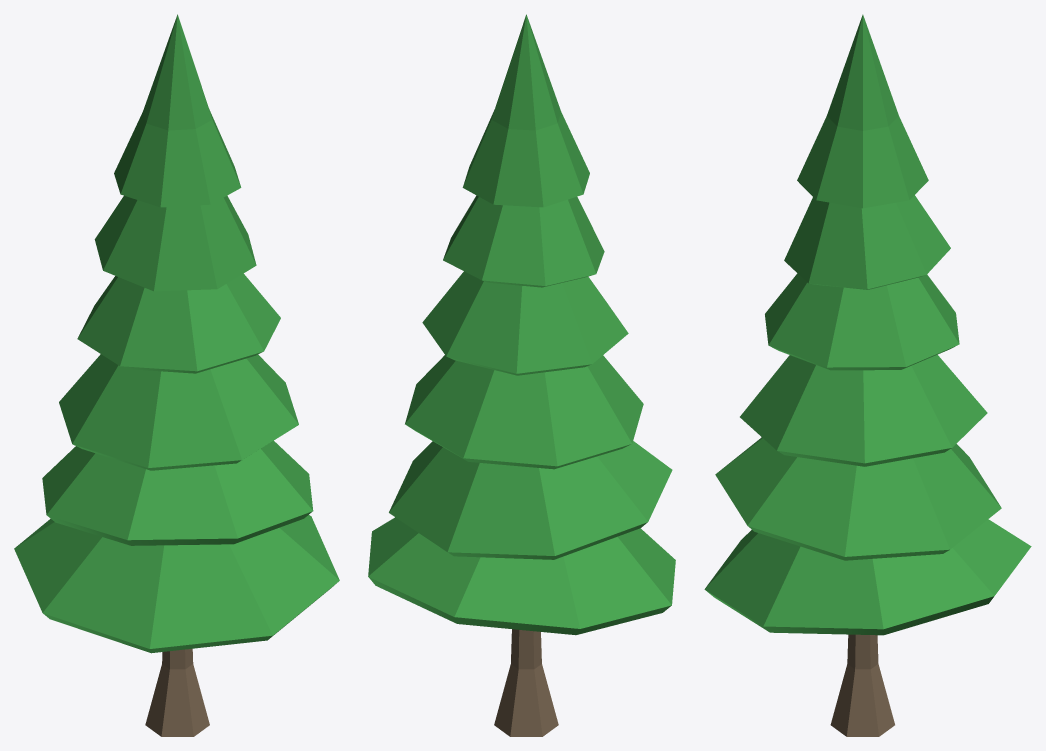
The model's file is pine_b.FBX.
3 views of the same model, side by side, from view 1: azimuth 30°, elevation 25°; view 2: azimuth 150°, elevation 25°; view 3: azimuth 270°, elevation 25° (orthographic).
Visible parts, largest first — view 1: pine_b; view 2: pine_b; view 3: pine_b.
Part boxes in pixels (left/top/right/bottom): pine_b: left=14, top=14, right=339, bottom=736; pine_b: left=368, top=14, right=675, bottom=736; pine_b: left=704, top=14, right=1031, bottom=736.
Bounding box in the file's own units: 2.4 × 5.73 × 2.39.
